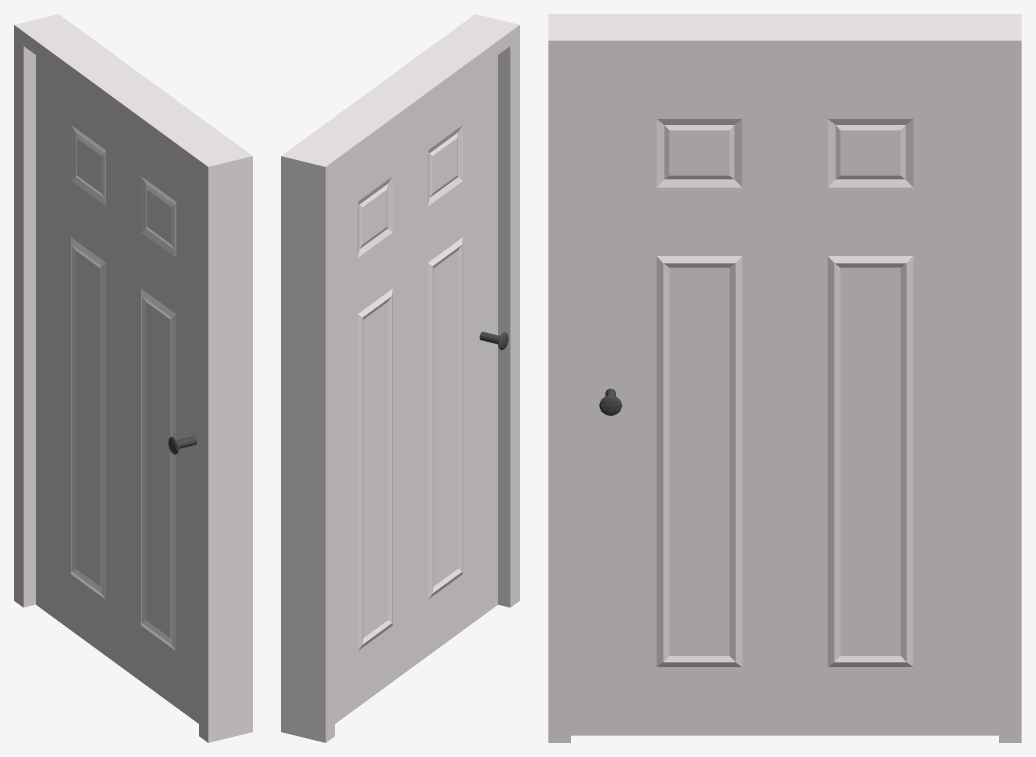
Rendered from door.fbx.
3 views of the same model, side by side, from view 1: azimuth 30°, elevation 25°; view 2: azimuth 150°, elevation 25°; view 3: azimuth 270°, elevation 25° (orthographic). The views are drawn at different scales.
Visible parts, largest first — view 1: Door, doorFrame; view 2: Door, doorFrame; view 3: Door, doorFrame.
Boxes of the visible parts, x1,y1,x2,y2 form: Door: [36, 55, 198, 723]; doorFrame: [14, 14, 252, 742]; Door: [335, 55, 497, 723]; doorFrame: [281, 14, 519, 742]; Door: [571, 58, 998, 735]; doorFrame: [548, 14, 1021, 742].
Bounding box in the file's own units: 220 × 1819 × 1111.
Materials: 2 (2 with a texture image).
